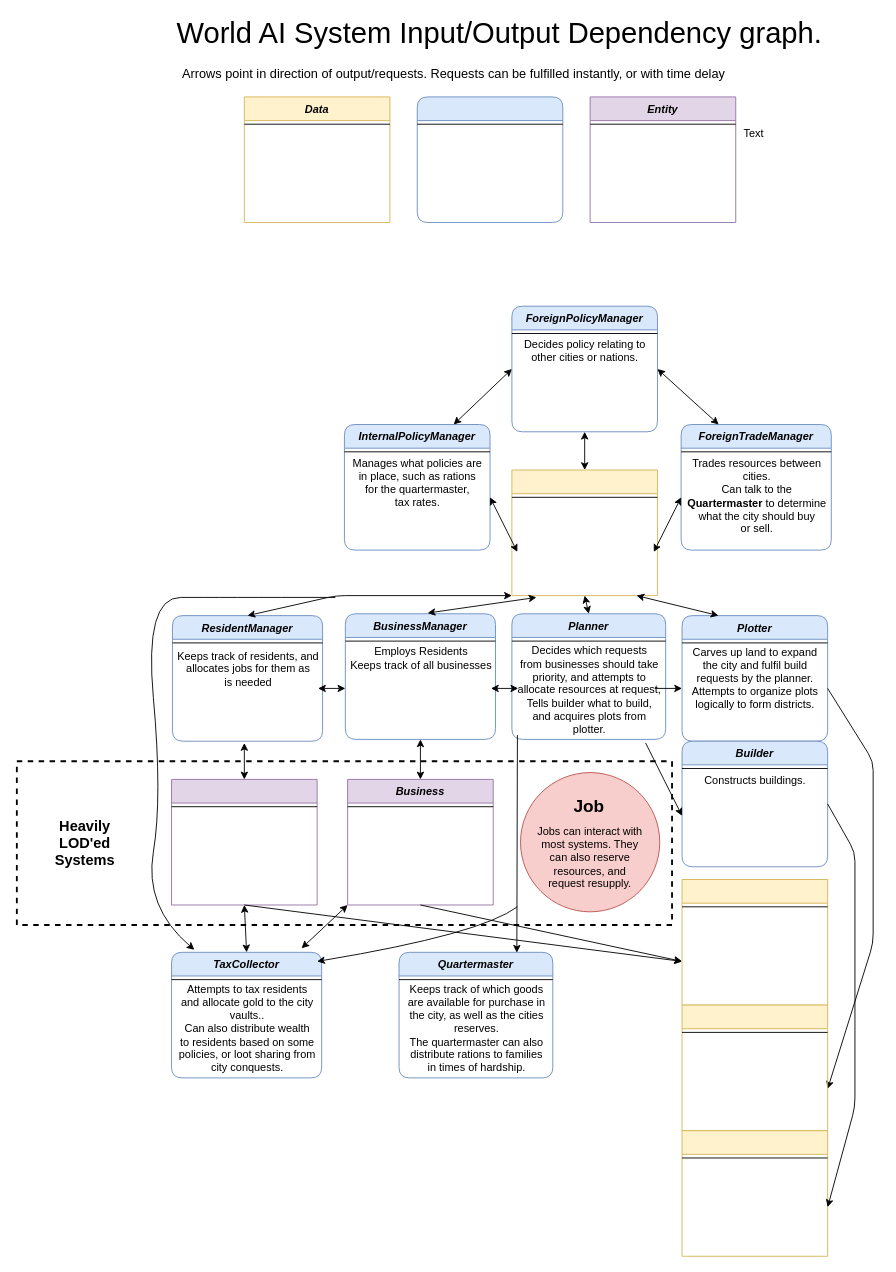
The diagram is 896 pixels wide and 1272 high, and some of its shapes have lost their labels. Here are the shapes that lost their labels. From the top down, the centre of each, then its label:
At point 489,159: "AI Module".
At point 584,532: "City".
At point 244,842: "Resident".
At point 754,942: "District".
At point 754,1067: "Plot".
At point 754,1193: "Building".
